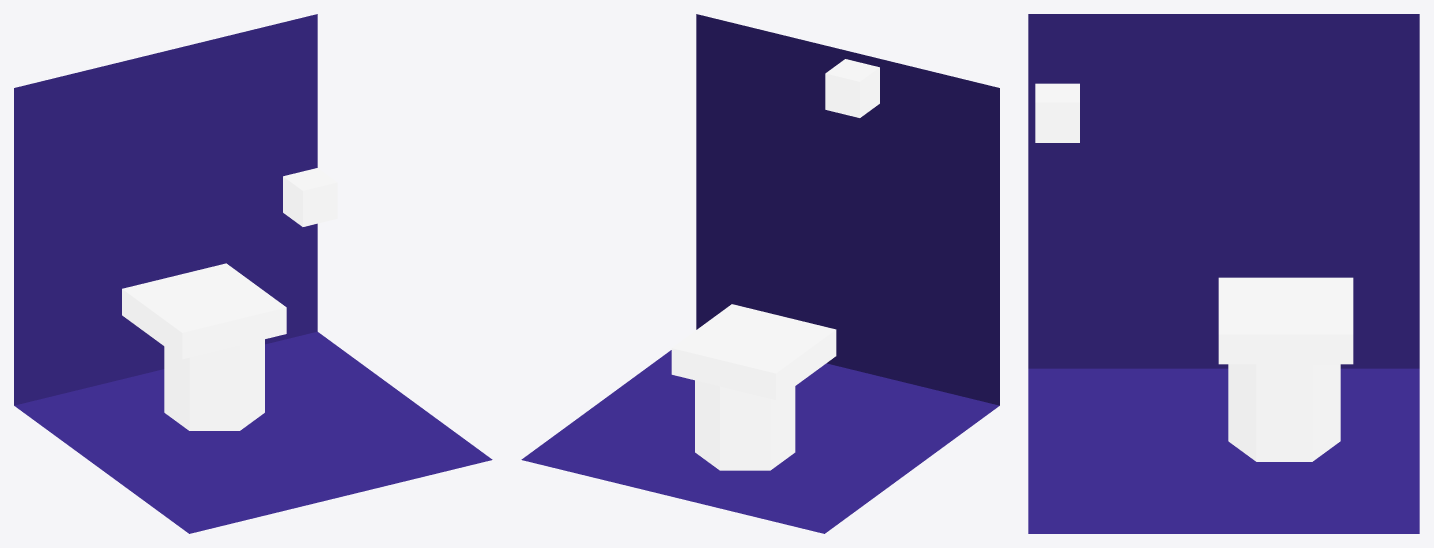
File: proj_radiosidade_embeded.gltf
3 views of the same model, side by side, from view 1: azimuth 30°, elevation 25°; view 2: azimuth 150°, elevation 25°; view 3: azimuth 270°, elevation 25° (orthographic). The views are drawn at different scales.
Visible parts, largest first — view 1: Caixa, Tampo, Pilar, Cubo Luz; view 2: Caixa, Tampo, Pilar, Cubo Luz; view 3: Caixa, Tampo, Pilar, Cubo Luz.
Boxes of the visible parts, box(x1,y1,x2,y2) form: Caixa: box(14, 14, 492, 533); Tampo: box(122, 263, 286, 359); Pilar: box(164, 339, 264, 430); Cubo Luz: box(283, 168, 337, 226); Caixa: box(521, 14, 999, 533); Tampo: box(671, 304, 836, 399); Pilar: box(695, 380, 795, 470); Cubo Luz: box(825, 59, 879, 117); Caixa: box(1028, 14, 1419, 533); Tampo: box(1218, 277, 1353, 364); Pilar: box(1228, 364, 1340, 461); Cubo Luz: box(1035, 83, 1079, 142).
Size of the model in its own units: 6 by 6 by 6.
